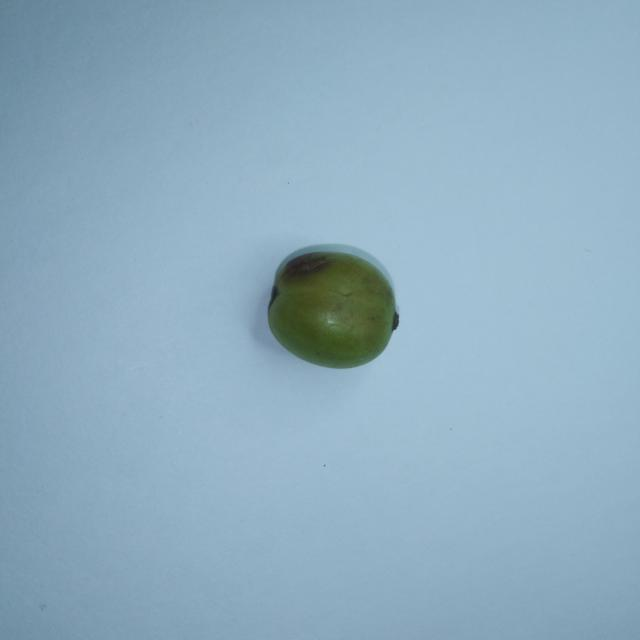Sano: (268, 245, 398, 367)
